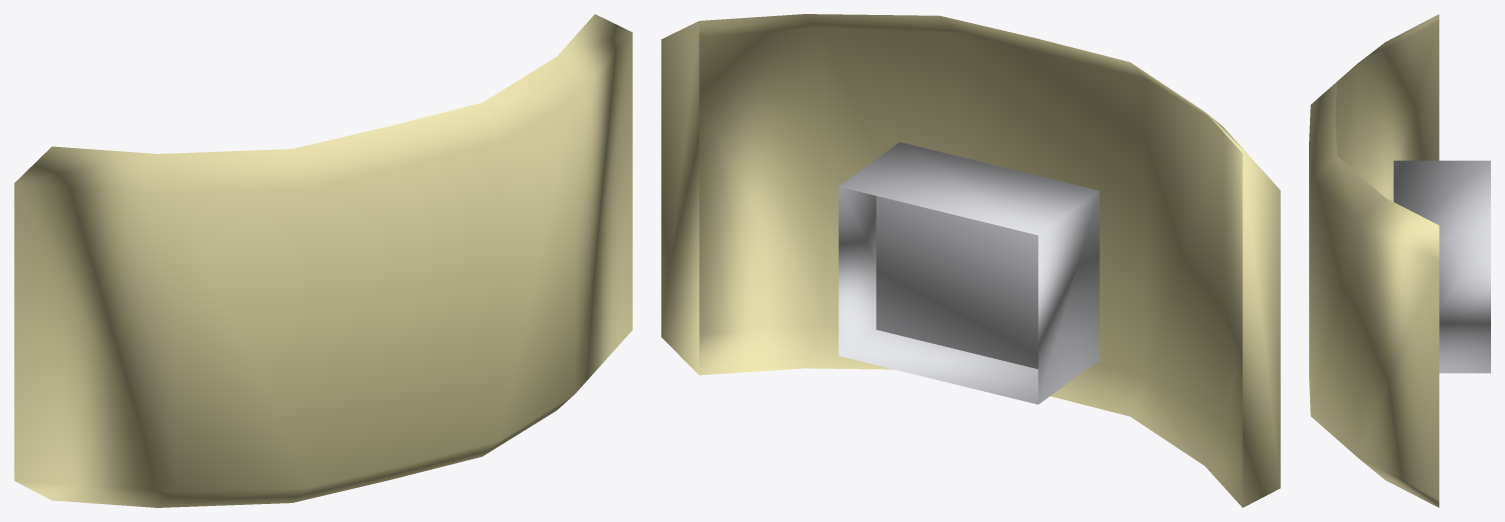
File: light.fbx
3 renders of one model, left to right at view 1: azimuth 30°, elevation 25°; view 2: azimuth 150°, elevation 25°; view 3: azimuth 270°, elevation 25°, orthographic. The views are drawn at different scales.
Visible parts, largest first — view 1: light; view 2: light; view 3: light.
Part boxes in pixels (x1,y1,x2,y2): light: [14, 14, 632, 507]; light: [661, 14, 1280, 507]; light: [1309, 14, 1490, 507].
Bounding box in the file's own units: 78.36 × 43.05 × 24.98.
